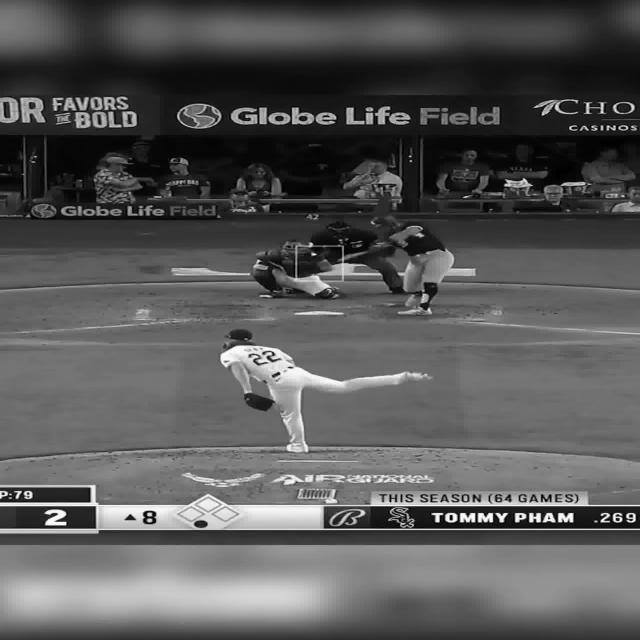baseball_glove: (243, 392, 275, 412), (288, 260, 318, 276)
bat: (333, 252, 375, 262)
shoe: (315, 286, 343, 298), (402, 372, 432, 382), (396, 307, 432, 315), (404, 293, 422, 307), (286, 442, 308, 453), (258, 289, 280, 297), (390, 288, 406, 294)
